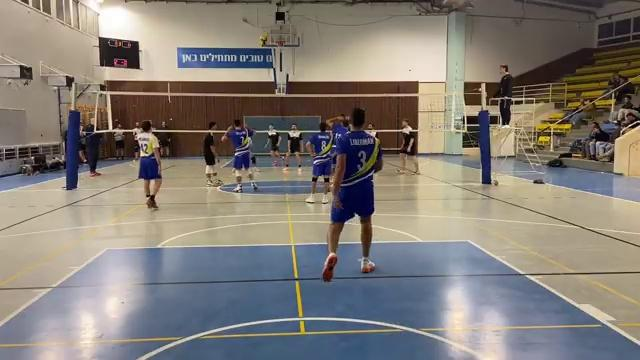ball: (258, 35, 271, 50)
